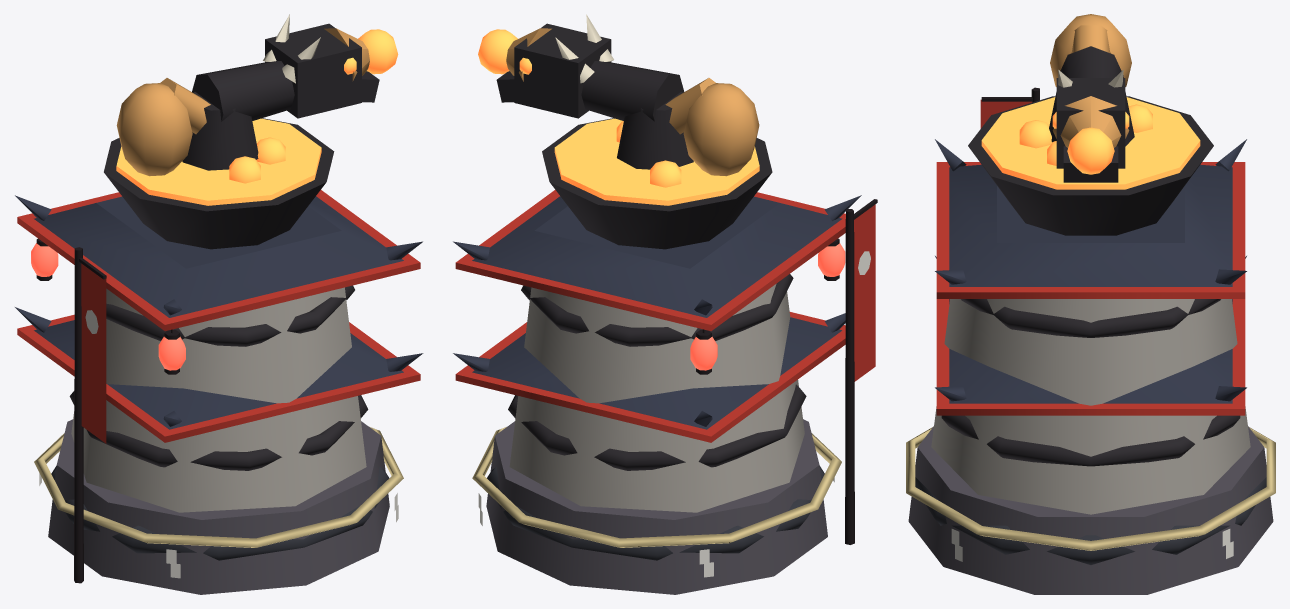
File: tower_flame.glb
3 renders of one model, left to right at view 1: azimuth 30°, elevation 25°; view 2: azimuth 150°, elevation 25°; view 3: azimuth 270°, elevation 25°, orthographic. The views are drawn at different scales.
Visible parts, largest first — view 1: body, base, deco_eave_0_roof, brazier_bowl, coals, deco_eave_1_roof, deco_eave_0_rim, deco_eave_1_rim, dragon_head, gas_tank, deco_shimenawa_rope, neck (+15 smaller); view 2: body, base, deco_eave_0_roof, brazier_bowl, coals, deco_eave_1_roof, deco_eave_0_rim, deco_eave_1_rim, dragon_head, gas_tank, deco_shimenawa_rope, neck (+14 smaller); view 3: body, base, deco_eave_0_roof, brazier_bowl, coals, deco_eave_0_rim, deco_eave_1_roof, deco_eave_1_rim, deco_shimenawa_rope, body_band_0.15, body_band_0.3, soot_ring (+12 smaller).
Boxes of the visible parts, box(x1,y1,x2,y2) form: body: box(71, 287, 366, 512); base: box(48, 419, 389, 594); deco_eave_0_roof: box(34, 196, 403, 317); brazier_bowl: box(104, 118, 334, 249); coals: box(116, 118, 321, 205); deco_eave_1_roof: box(34, 320, 403, 429); deco_eave_0_rim: box(17, 190, 420, 331); deco_eave_1_rim: box(17, 314, 420, 442); dragon_head: box(265, 23, 361, 118); gas_tank: box(116, 83, 192, 176); deco_shimenawa_rope: box(34, 426, 403, 547); neck: box(192, 61, 294, 121); body: box(509, 284, 804, 512); base: box(486, 419, 827, 594); deco_eave_0_roof: box(472, 196, 842, 317); brazier_bowl: box(542, 118, 772, 249); coals: box(554, 118, 759, 205); deco_eave_1_roof: box(472, 317, 841, 429); deco_eave_0_rim: box(455, 190, 845, 331); deco_eave_1_rim: box(455, 312, 845, 442); dragon_head: box(514, 23, 611, 118); gas_tank: box(683, 83, 759, 176); deco_shimenawa_rope: box(472, 427, 841, 547); neck: box(581, 61, 684, 121); body: box(931, 299, 1250, 514); base: box(908, 426, 1273, 594); deco_eave_0_roof: box(949, 164, 1232, 286); brazier_bowl: box(968, 96, 1213, 235); coals: box(981, 97, 1200, 189); deco_eave_0_rim: box(936, 162, 1245, 298); deco_eave_1_roof: box(949, 299, 1232, 403); deco_eave_1_rim: box(936, 299, 1245, 415); deco_shimenawa_rope: box(906, 427, 1275, 550); body_band_0.15: box(941, 415, 1240, 466); body_band_0.3: box(961, 299, 1220, 337); soot_ring: box(915, 477, 1266, 564).
Size of the model in its own units: 0.4597 by 0.6002 by 0.4052.
